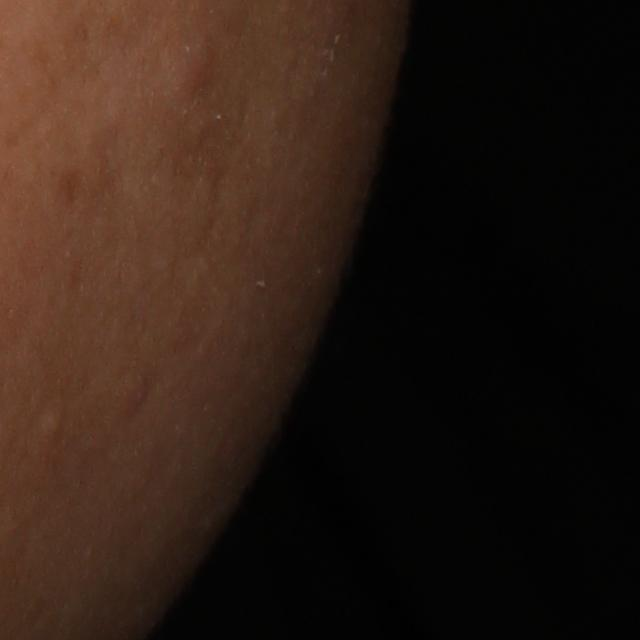comedo: (38, 411, 66, 440)
papule: (169, 28, 226, 110)
